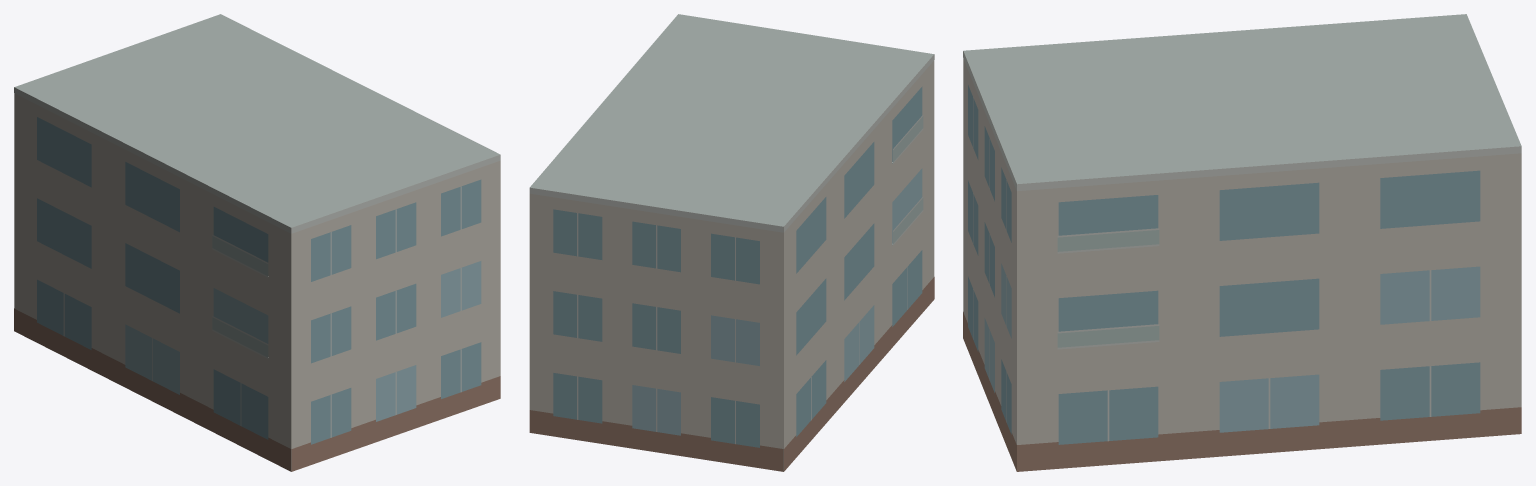
File: survey-upis-32704518.glb
3 renders of one model, left to right at view 1: azimuth 30°, elevation 25°; view 2: azimuth 150°, elevation 25°; view 3: azimuth 270°, elevation 25°, orthographic. The views are drawn at different scales.
Visible parts, largest first — view 1: survey-upis-32704518.tmp; view 2: survey-upis-32704518.tmp; view 3: survey-upis-32704518.tmp.
Part boxes in pixels (x1=…): survey-upis-32704518.tmp: x1=14, y1=14, x2=500, y2=471; survey-upis-32704518.tmp: x1=529, y1=14, x2=934, y2=471; survey-upis-32704518.tmp: x1=963, y1=14, x2=1521, y2=471.
Bounding box in the file's own units: 12.75 × 10.04 × 17.68.
